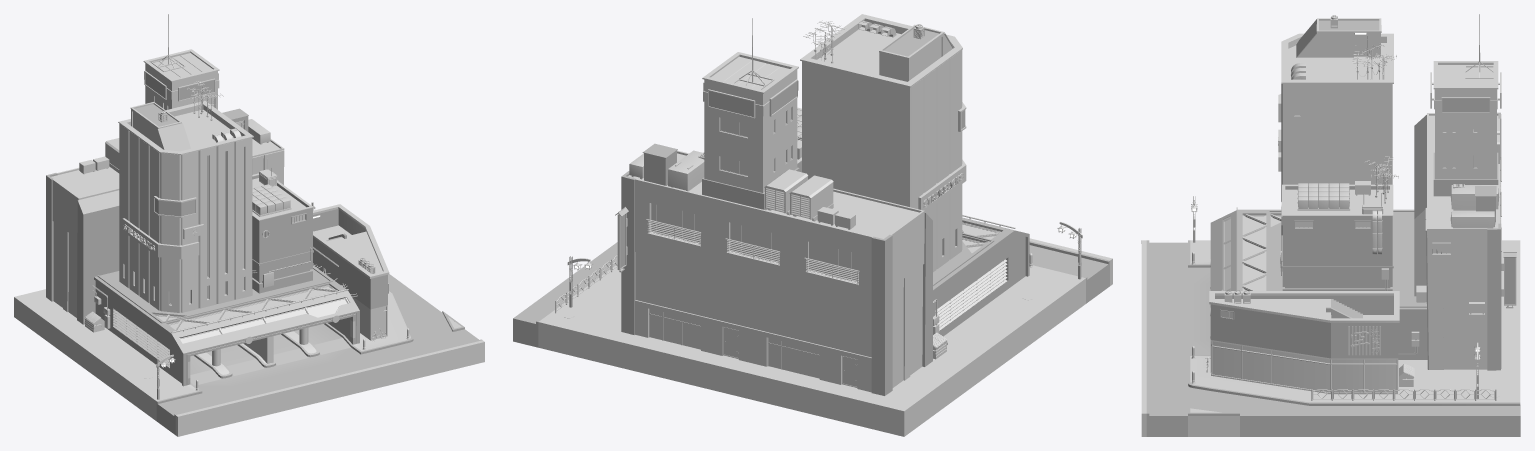
File: KB3D_NTT_BldgSM_A.fbx
3 renders of one model, left to right at view 1: azimuth 30°, elevation 25°; view 2: azimuth 150°, elevation 25°; view 3: azimuth 270°, elevation 25°, orthographic. The views are drawn at different scales.
Parts seen in each view (by area): view 1: KB3D_NTT_BldgSM_A_Main, KB3D_NTT_BldgSM_A_BuildingB, KB3D_NTT_BldgSM_A_BuildingA, KB3D_NTT_BldgSM_A_BuildingE, KB3D_NTT_BldgSM_A_BuildingD, KB3D_NTT_BldgSM_A_BuildingC, KB3D_NTT_BldgSM_A_BuildingF, KB3D_NTT_BldgSM_A_Rooftop; view 2: KB3D_NTT_BldgSM_A_BuildingE, KB3D_NTT_BldgSM_A_Main, KB3D_NTT_BldgSM_A_BuildingB, KB3D_NTT_BldgSM_A_BuildingF, KB3D_NTT_BldgSM_A_BuildingA, KB3D_NTT_BldgSM_A_Rooftop, KB3D_NTT_BldgSM_A_Billboard; view 3: KB3D_NTT_BldgSM_A_Main, KB3D_NTT_BldgSM_A_BuildingD, KB3D_NTT_BldgSM_A_BuildingB, KB3D_NTT_BldgSM_A_BuildingE, KB3D_NTT_BldgSM_A_BuildingC, KB3D_NTT_BldgSM_A_BuildingA, KB3D_NTT_BldgSM_A_BuildingF, KB3D_NTT_BldgSM_A_Rooftop, KB3D_NTT_BldgSM_A_Billboard, KB3D_NTT_BldgSM_A_AntennaA, KB3D_NTT_BldgSM_A_AntennaB.
Boxes of the visible parts, x1,y1,x2,y2 form: KB3D_NTT_BldgSM_A_Main: (14,202,484,436); KB3D_NTT_BldgSM_A_BuildingB: (118,100,253,312); KB3D_NTT_BldgSM_A_BuildingA: (84,265,359,386); KB3D_NTT_BldgSM_A_BuildingE: (46,138,284,324); KB3D_NTT_BldgSM_A_BuildingD: (313,204,389,341); KB3D_NTT_BldgSM_A_BuildingC: (252,158,313,293); KB3D_NTT_BldgSM_A_BuildingF: (143,14,219,110); KB3D_NTT_BldgSM_A_Rooftop: (222,108,270,144); KB3D_NTT_BldgSM_A_BuildingE: (621,150,932,395); KB3D_NTT_BldgSM_A_Main: (513,222,1112,436); KB3D_NTT_BldgSM_A_BuildingB: (800,14,966,272); KB3D_NTT_BldgSM_A_BuildingF: (702,18,799,210); KB3D_NTT_BldgSM_A_BuildingA: (933,215,1029,359); KB3D_NTT_BldgSM_A_Rooftop: (629,143,704,191); KB3D_NTT_BldgSM_A_Billboard: (615,207,628,272); KB3D_NTT_BldgSM_A_Main: (1141,196,1520,436); KB3D_NTT_BldgSM_A_BuildingD: (1205,290,1414,394); KB3D_NTT_BldgSM_A_BuildingB: (1278,15,1393,250); KB3D_NTT_BldgSM_A_BuildingE: (1414,112,1501,370); KB3D_NTT_BldgSM_A_BuildingC: (1280,181,1393,290); KB3D_NTT_BldgSM_A_BuildingA: (1210,207,1427,359); KB3D_NTT_BldgSM_A_BuildingF: (1430,14,1501,196); KB3D_NTT_BldgSM_A_Rooftop: (1450,184,1499,228); KB3D_NTT_BldgSM_A_Billboard: (1501,252,1516,308); KB3D_NTT_BldgSM_A_AntennaA: (1352,43,1396,79); KB3D_NTT_BldgSM_A_AntennaB: (1364,156,1398,203).
Bounding box in the file's own units: 3190 × 2804 × 2948.
